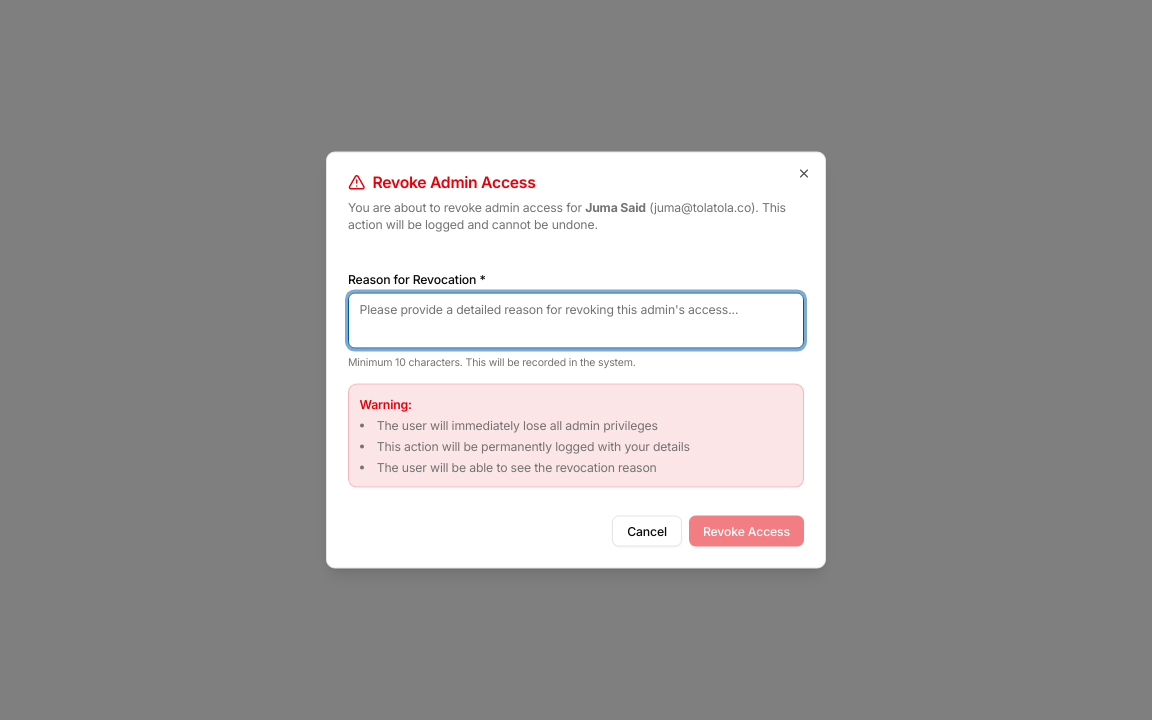
RevokeAdminDialog › keeps the confirm button enabled-by-length even while not loading, once past 10 chars
This screenshot has width=1152, height=720.
Type "Ten characters plus" into the text box labelled "Reason for Revocation *" at [576, 320], box [348,292,804,348]
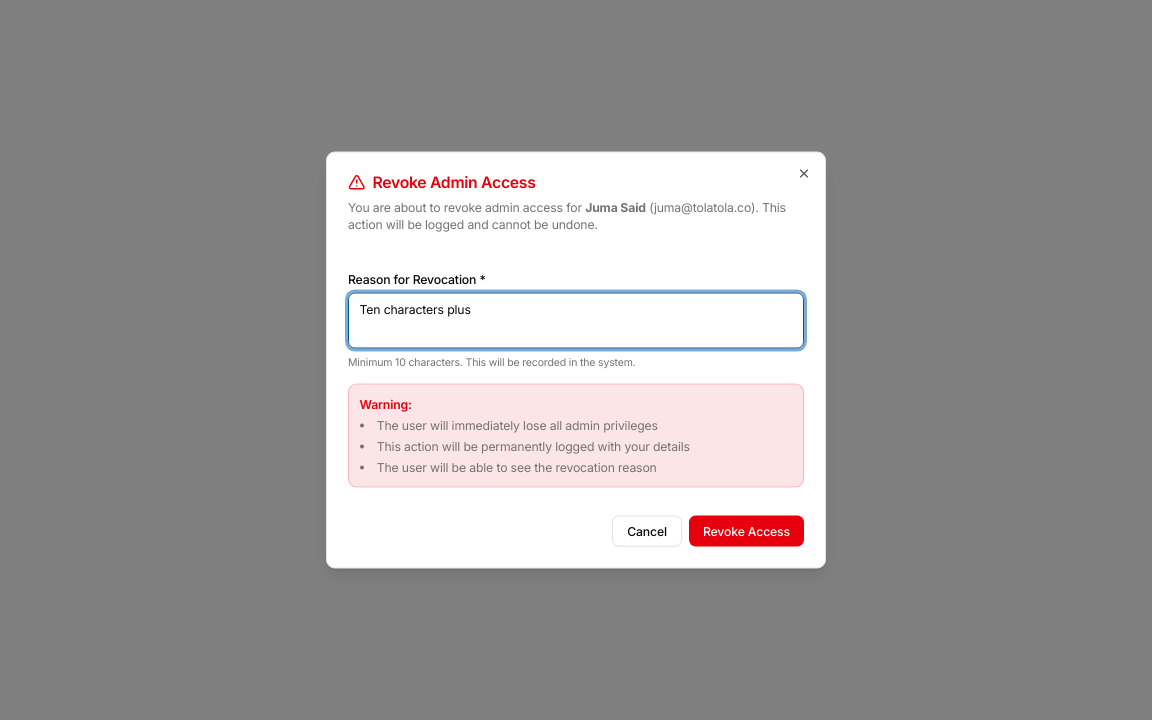
Now the button "Revoke Access" is enabled, box [689,515,804,546]
